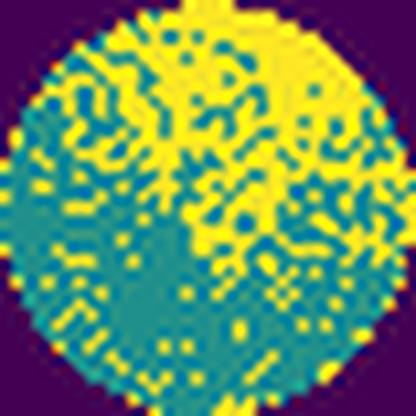Edge-Loc: (40, 0, 416, 295), (206, 393, 263, 415)
